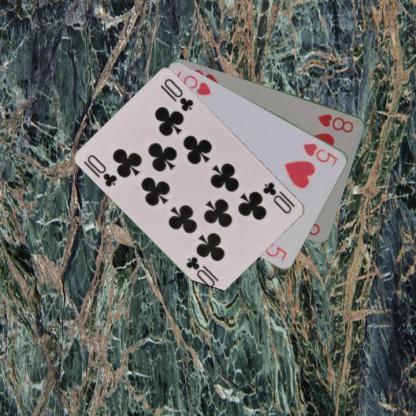10c: (81, 152, 119, 188), (260, 179, 294, 215)
5h: (301, 140, 339, 168)
8h: (315, 111, 355, 134)
